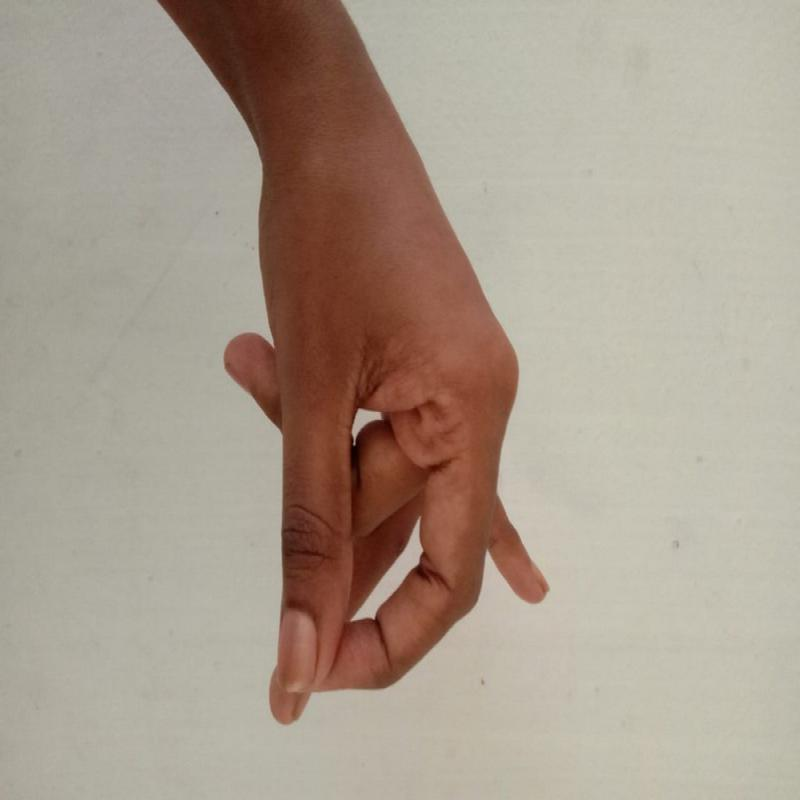Katakam: (204, 220, 563, 736)
